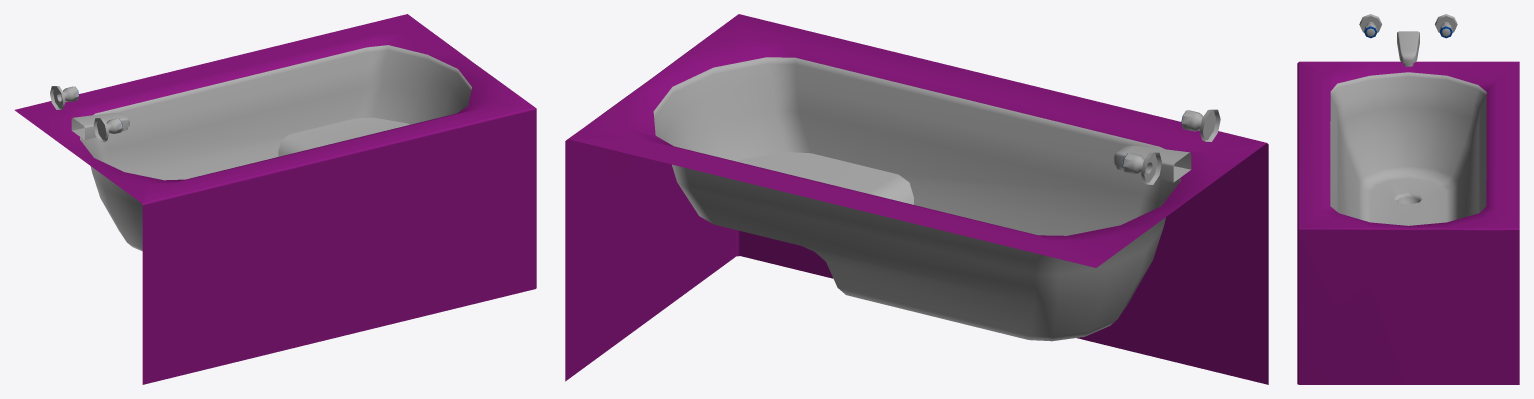
Rendered from bathIdle.fbx.
The picture shows the model from 3 angles, left to right: view 1: azimuth 30°, elevation 25°; view 2: azimuth 150°, elevation 25°; view 3: azimuth 270°, elevation 25°; orthographic projection. The views are drawn at different scales.
Visible parts, largest first — view 1: bath; view 2: bath; view 3: bath.
Part boxes in pixels (bbox=[...]): bath: bbox=[14, 14, 536, 384]; bath: bbox=[565, 14, 1268, 384]; bath: bbox=[1297, 14, 1519, 384].
Size of the model in its own units: 160 by 91.27 by 90.
